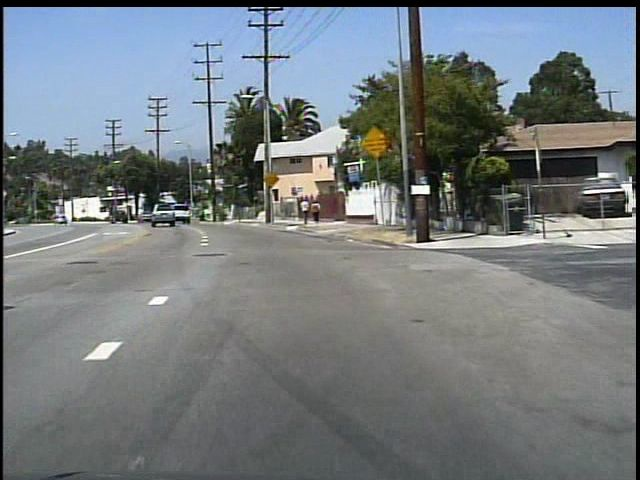person: (297, 196, 311, 225), (310, 198, 322, 225)
